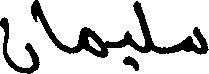X: (0, 1, 31, 73), (33, 0, 57, 73), (135, 0, 152, 73), (81, 22, 106, 62), (184, 22, 208, 59), (124, 26, 130, 69)
